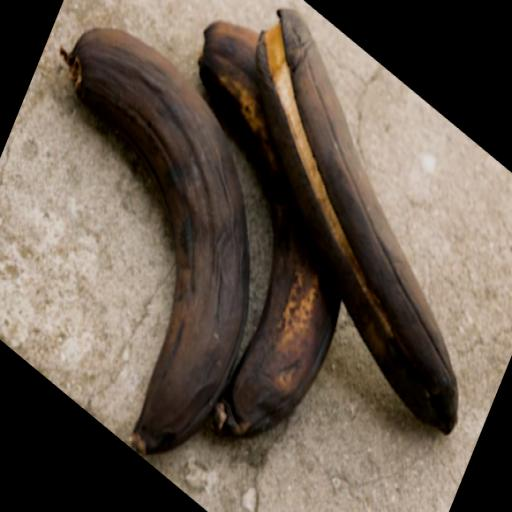banana-overripe: (60, 0, 468, 499)
